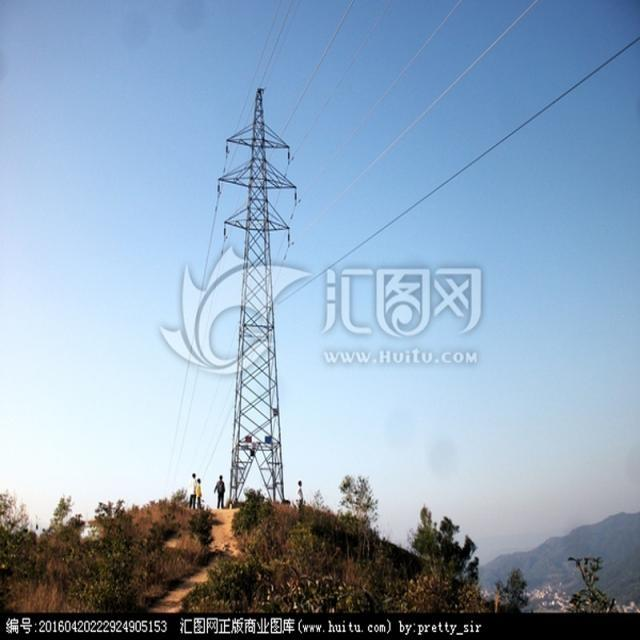non-critical vegetation: (209, 105, 292, 502)
